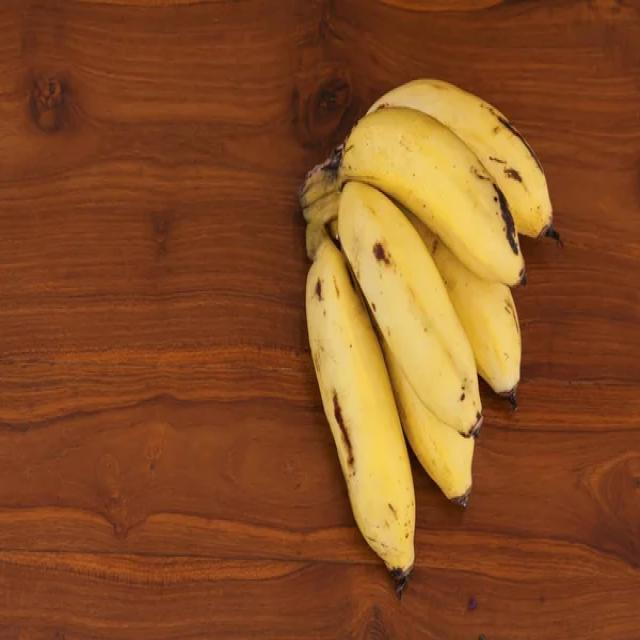banana: (294, 72, 568, 603)
